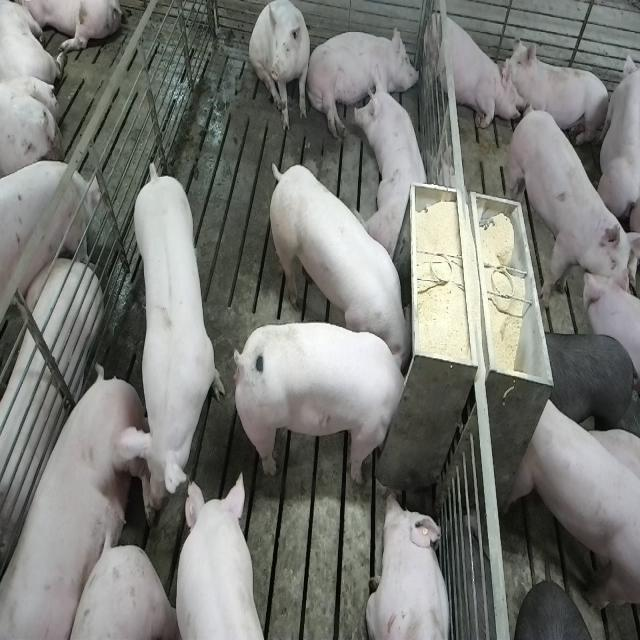Feeding: (264, 160, 412, 371), (229, 320, 409, 483)
Lateral_lying: (0, 369, 152, 640), (0, 256, 102, 586), (307, 24, 419, 140)
Sitting: (423, 2, 512, 134), (249, 1, 312, 134)
Standing: (127, 157, 223, 514), (508, 394, 638, 613), (504, 108, 634, 317), (0, 162, 99, 347), (176, 471, 276, 640), (543, 326, 637, 440)
Sternal_lying: (356, 73, 433, 259), (365, 489, 453, 640), (503, 37, 610, 151)
